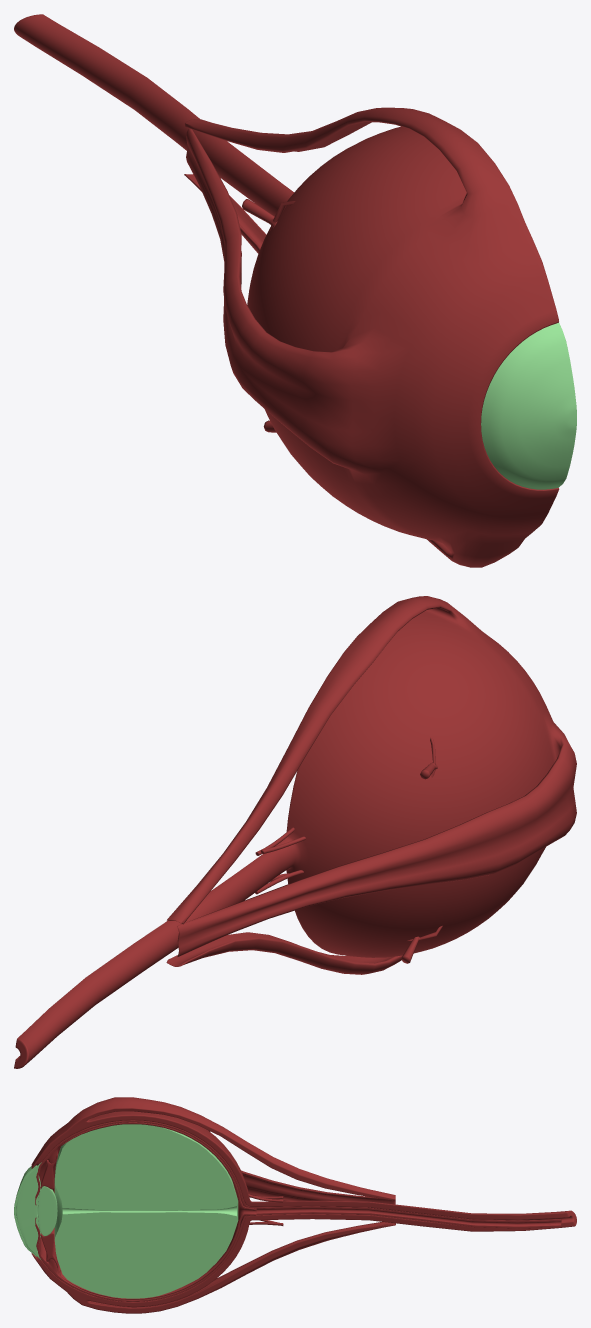
File: Eye_Anim.FBX
The picture shows the model from 3 angles, top to bottom: view 1: azimuth 30°, elevation 25°; view 2: azimuth 150°, elevation 25°; view 3: azimuth 270°, elevation 25°; orthographic projection. The views are drawn at different scales.
Parts seen in each view (by area): view 1: Sclera, Cornea; view 2: Sclera, Arterie, Vein; view 3: Vitreous, Sclera, Chloroid, Retina, Eyefluid, Lens, Ligaments, Arterie, Cornea.
Boxes of the visible parts, x1,y1,x2,y2 form: Sclera: (14, 14, 559, 567); Cornea: (481, 322, 576, 489); Sclera: (14, 596, 576, 1068); Arterie: (255, 827, 305, 894); Vein: (401, 737, 442, 963); Vitreous: (54, 1124, 238, 1298); Sclera: (31, 1097, 576, 1313); Chloroid: (35, 1120, 561, 1301); Retina: (60, 1122, 256, 1299); Eyefluid: (16, 1162, 41, 1259); Lens: (37, 1186, 57, 1236); Ligaments: (40, 1150, 57, 1267); Arterie: (248, 1194, 283, 1225); Cornea: (14, 1165, 36, 1256).
Size of the model in its own units: 0.0306 by 0.0558 by 0.1335.
